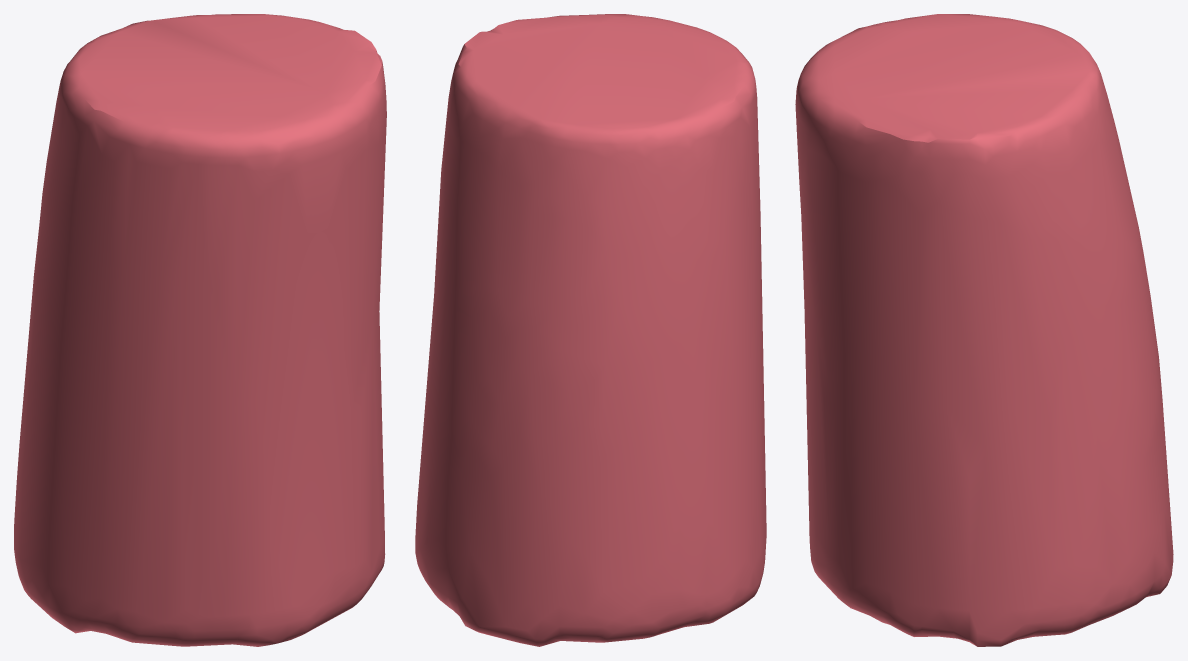
Rendered from fma4720.glb.
3 renders of one model, left to right at view 1: azimuth 30°, elevation 25°; view 2: azimuth 150°, elevation 25°; view 3: azimuth 270°, elevation 25°, orthographic. The views are drawn at different scales.
Parts seen in each view (by area): view 1: FMA4720; view 2: FMA4720; view 3: FMA4720.
Part boxes in pixels (x1=…): FMA4720: x1=14, y1=14, x2=386, y2=646; FMA4720: x1=415, y1=14, x2=766, y2=646; FMA4720: x1=795, y1=14, x2=1173, y2=646.
Bounding box in the file's own units: 0.0227 × 0.0351 × 0.0238.
